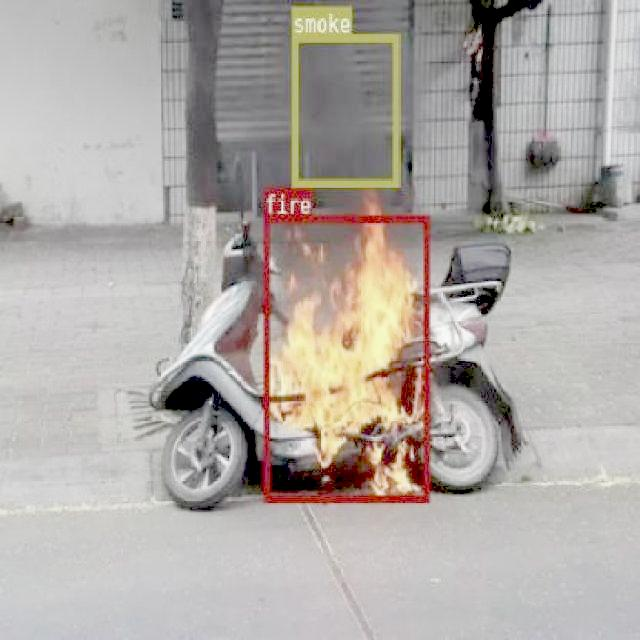fire: (264, 214, 428, 502)
smoke: (292, 32, 398, 186)
